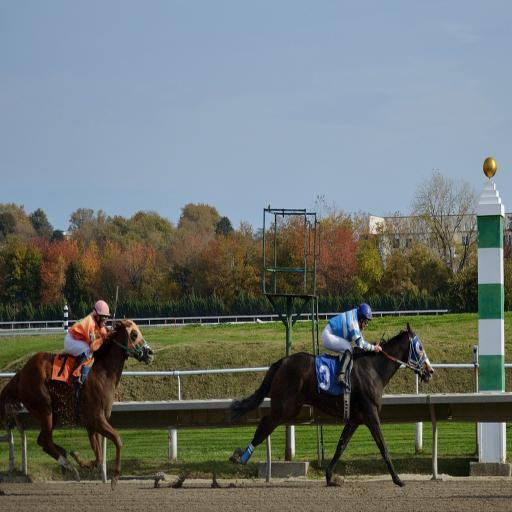horse: (226, 318, 436, 486), (0, 316, 153, 492)
